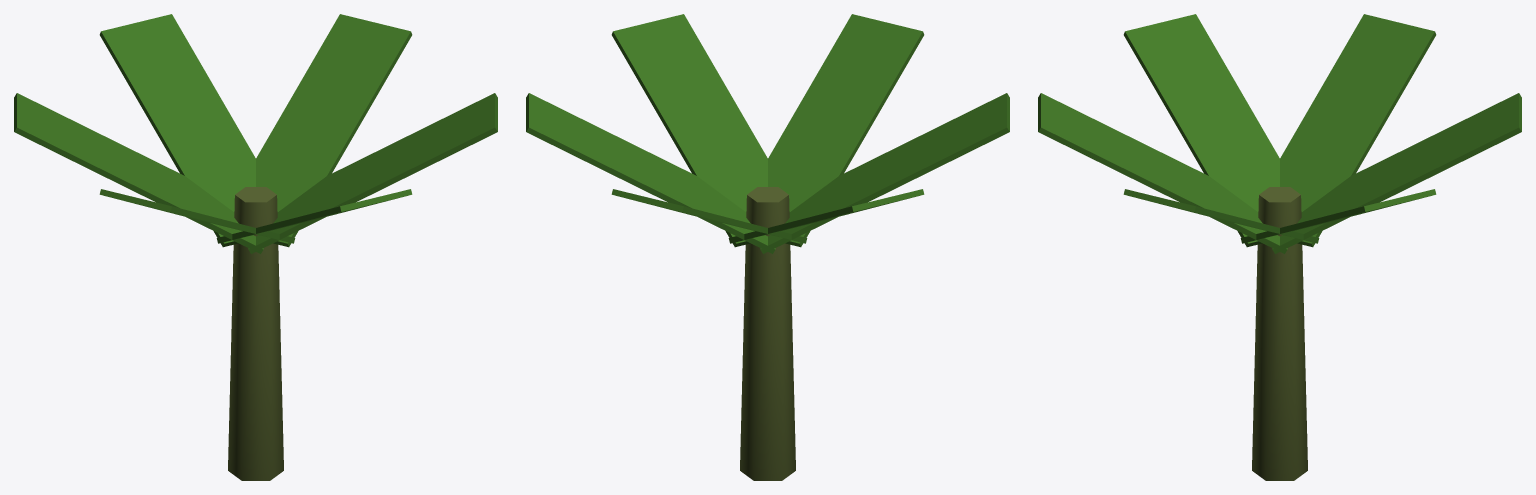
File: bananeira.glb
The picture shows the model from 3 angles, left to right: view 1: azimuth 30°, elevation 25°; view 2: azimuth 150°, elevation 25°; view 3: azimuth 270°, elevation 25°; orthographic projection.
Parts seen in each view (by area): view 1: bananeira_liso; view 2: bananeira_liso; view 3: bananeira_liso.
Part boxes in pixels (x1,y1,x2,y2): bananeira_liso: [14, 14, 497, 480]; bananeira_liso: [526, 14, 1009, 480]; bananeira_liso: [1038, 14, 1521, 480].
Bounding box in the file's own units: 3.93 × 3.4 × 4.13.
